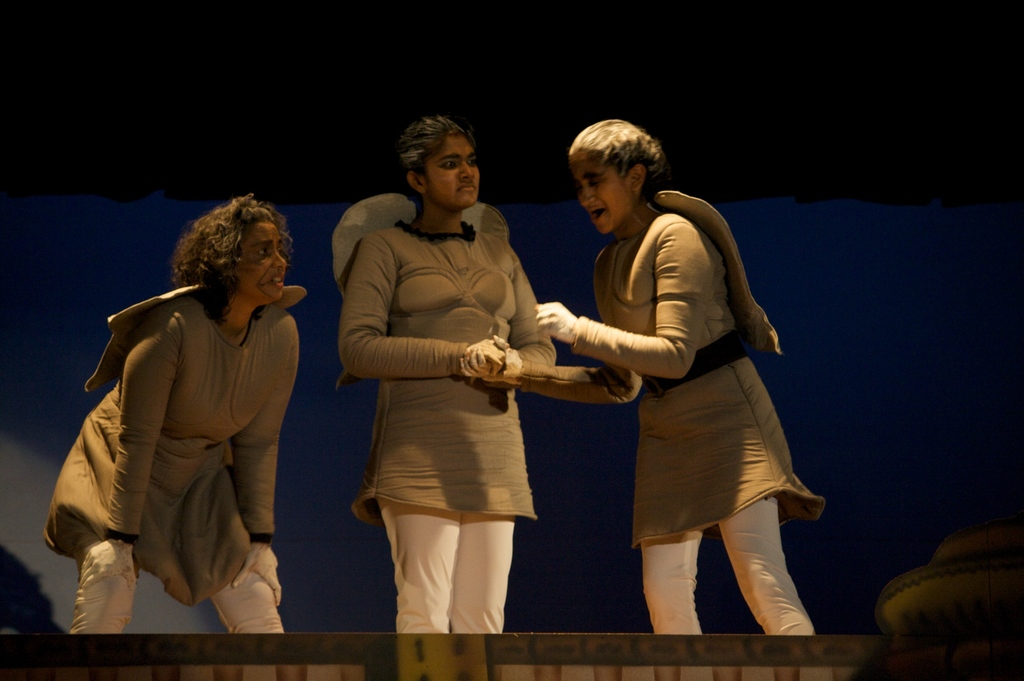Human_hand: (78, 534, 140, 592), (230, 543, 284, 607), (459, 334, 520, 382), (534, 296, 578, 344), (464, 337, 509, 382)
